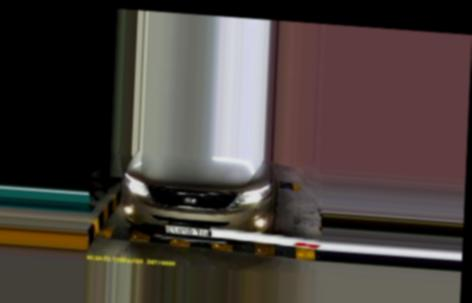License_Plate: (164, 223, 216, 239)
